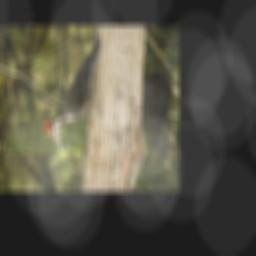Woodpecker: (43, 33, 107, 154)
